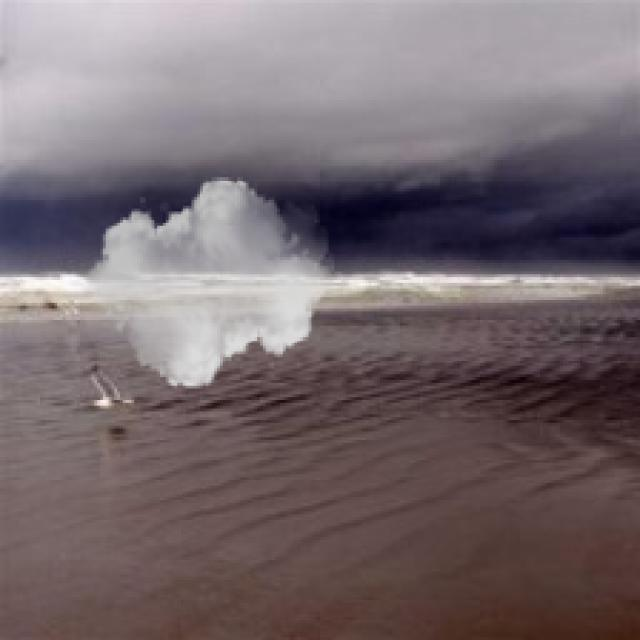smoke: (80, 169, 334, 397)
